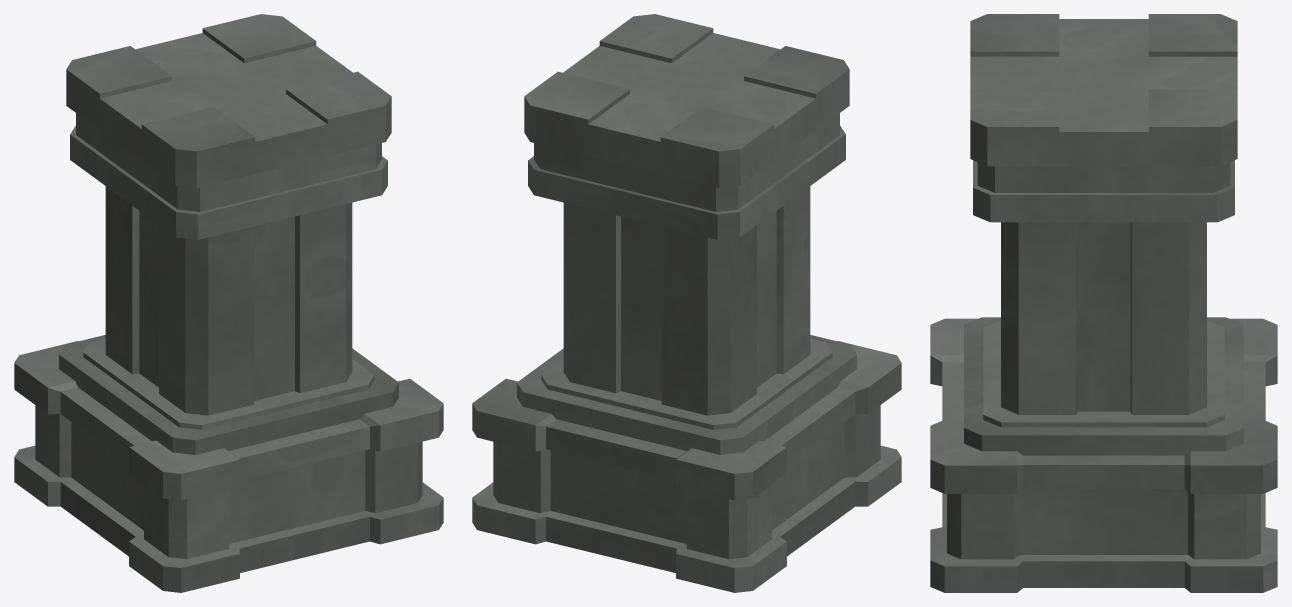
The model's file is SmallPillar.fbx.
3 renders of one model, left to right at view 1: azimuth 30°, elevation 25°; view 2: azimuth 150°, elevation 25°; view 3: azimuth 270°, elevation 25°, orthographic. The views are drawn at different scales.
Parts seen in each view (by area): view 1: SmallPillar.001; view 2: SmallPillar.001; view 3: SmallPillar.001.
Boxes of the visible parts, bbox=[...] form: SmallPillar.001: bbox=[14, 14, 443, 592]; SmallPillar.001: bbox=[472, 14, 901, 592]; SmallPillar.001: bbox=[930, 14, 1277, 592].
Size of the model in its own units: 1.57 by 2.24 by 1.57.
1 material, 1 textured.
